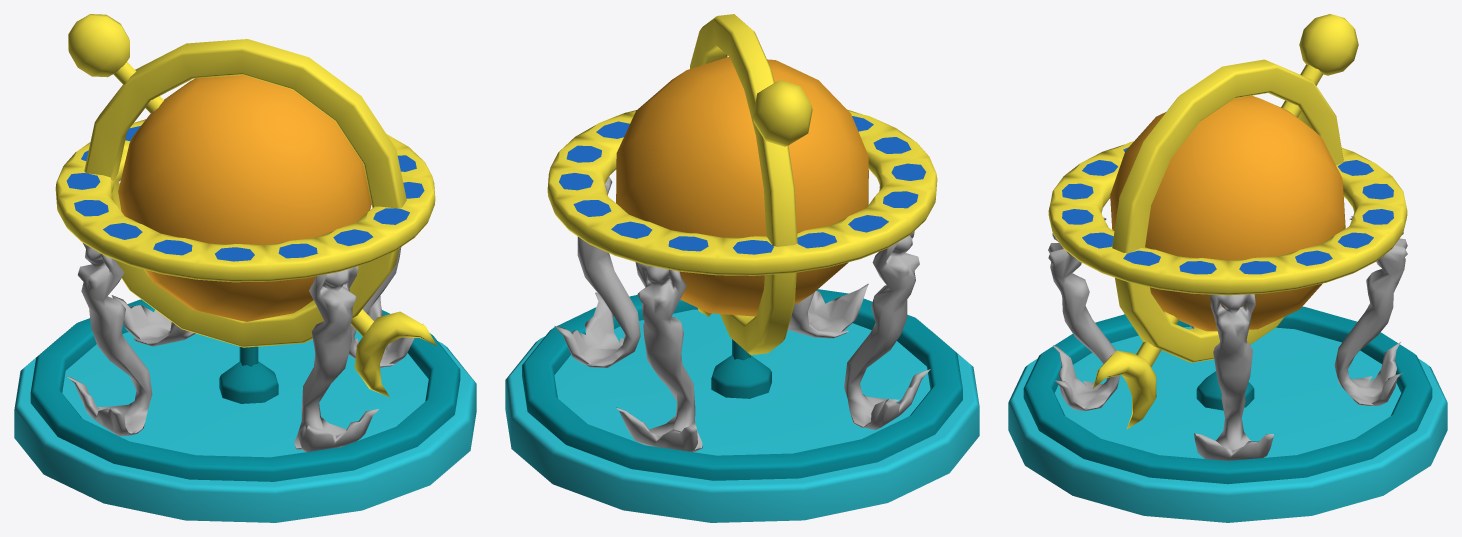
The model's file is fountain_003.gltf.
The picture shows the model from 3 angles, left to right: view 1: azimuth 30°, elevation 25°; view 2: azimuth 150°, elevation 25°; view 3: azimuth 270°, elevation 25°; orthographic projection. The views are drawn at different scales.
Visible parts, largest first — view 1: fountain_003; view 2: fountain_003; view 3: fountain_003.
Part boxes in pixels (left/top/right/bottom): fountain_003: left=14, top=14, right=476, bottom=522; fountain_003: left=505, top=14, right=979, bottom=522; fountain_003: left=1008, top=14, right=1447, bottom=522.
Bounding box in the file's own units: 4.85 × 4.51 × 4.85.
Materials: 1 (1 with a texture image).
